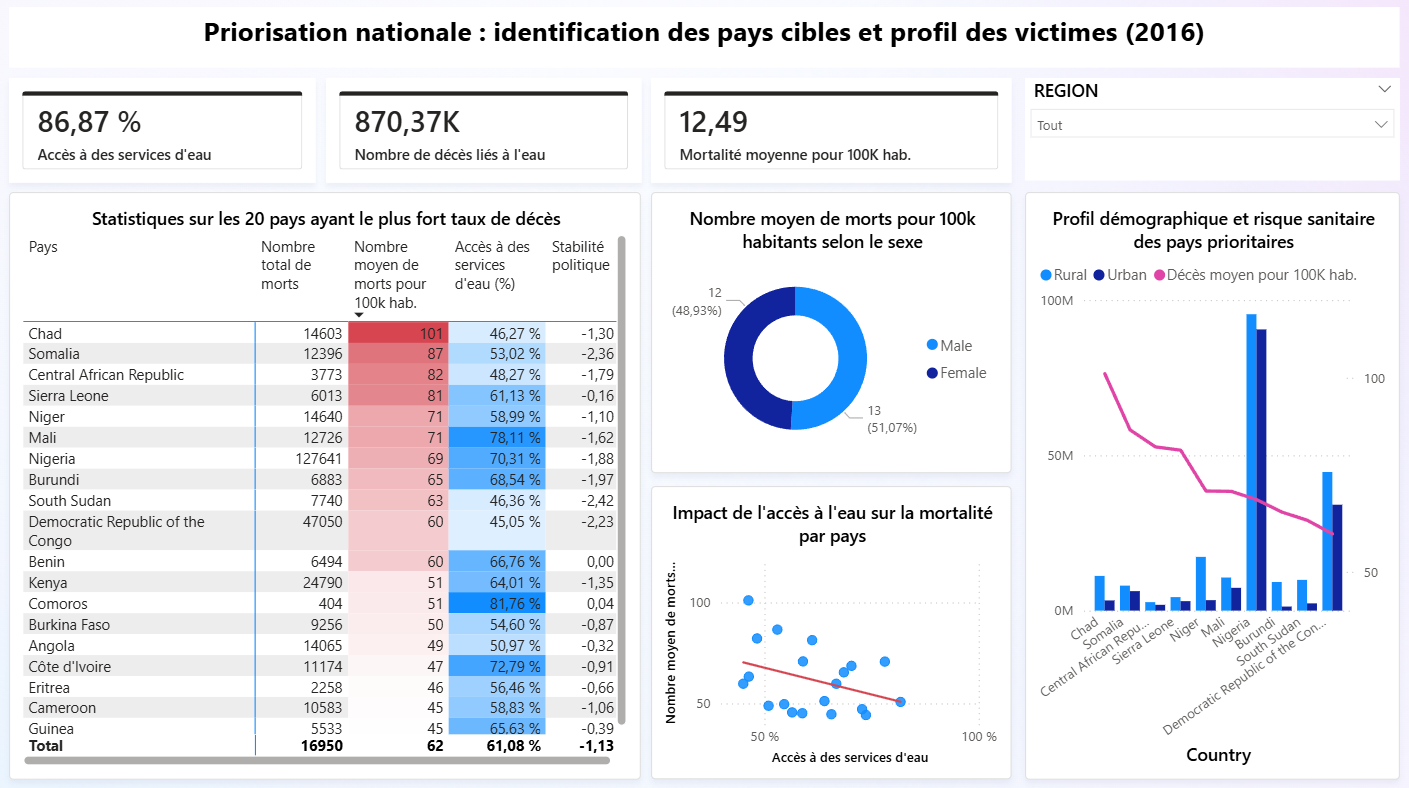

The page's visual inventory and layout, read from the dashboard file:
{"tool":"powerbi","page":{"name":"Vue Nationale","canvas":[1280,720],"ordinal":2},"visuals":[{"type":"textbox","box":[9.5,8.3,1261,54.7],"z":0},{"type":"pivotTable","title":"Statistiques sur les 20 pays ayant le plus fort taux de décès","fields":{"Rows":["DIM_Geography.COUNTRY"],"Values":["Avg(MortalityRateAttributedToWater.WASH deaths)","Avg(MortalityRateAttributedToWater.Mortality rate attributed to exposure to unsafe WASH services)","Avg(BasicAndSafelyManagedDrinkingWaterServices.Population using at least basic drinking-water services (%))","Avg(PoliticalStability.Political_Stability)"]},"box":[9.5,176.1,573.4,532.9],"z":1},{"type":"donutChart","title":"Nombre moyen de morts pour 100k habitants selon le sexe","fields":{"Category":["DIM_Granularity.Granularity"],"Y":["Avg(MortalityRateAttributedToWater.Mortality rate attributed to exposure to unsafe WASH services)"]},"box":[591.2,176.1,327.1,254.6],"z":2},{"type":"scatterChart","title":"Impact de l''accès à l''eau sur la mortalité par pays","fields":{"X":["Avg(BasicAndSafelyManagedDrinkingWaterServices.Population using at least basic drinking-water services (%))"],"Y":["Avg(MortalityRateAttributedToWater.Mortality rate attributed to exposure to unsafe WASH services)"],"Category":["DIM_Geography.COUNTRY"]},"box":[591.2,442.5,327.1,266.5],"z":3},{"type":"lineClusteredColumnComboChart","title":"Profil démographique et risque sanitaire des pays prioritaires","fields":{"Category":["DIM_Geography.COUNTRY"],"Y":["Sum(Population.Population)"],"Series":["Population.Granularity"],"Y2":["Avg(MortalityRateAttributedToWater.Mortality rate attributed to exposure to unsafe WASH services)"]},"box":[930.3,176.1,340.2,532.9],"z":4},{"type":"slicer","fields":{"Values":["DIM_Geography.REGION"]},"box":[930.3,72.6,340.2,92.8],"z":5},{"type":"cardVisual","fields":{"Data":["Sum(MortalityRateAttributedToWater.WASH deaths)"]},"box":[296.2,72.6,286.7,95.2],"z":6},{"type":"cardVisual","fields":{"Data":["Avg(MortalityRateAttributedToWater.Mortality rate attributed to exposure to unsafe WASH services)"]},"box":[591.2,72.6,327.1,95.2],"z":7},{"type":"cardVisual","fields":{"Data":["Avg(BasicAndSafelyManagedDrinkingWaterServices.Population using at least basic drinking-water services (%))"]},"box":[9.5,72.6,278.4,95.2],"z":8}]}

Visuals, with their boxes in screenshot pixels (x1, y1, x2, y2), scaled from the page's 1280x720 canvas onto the 1409x788 screenshot:
textbox: (10, 9, 1399, 69)
"Statistiques sur les 20 pays ayant le plus fort taux de décès" pivotTable: (10, 193, 642, 776)
"Nombre moyen de morts pour 100k habitants selon le sexe" donutChart: (651, 193, 1011, 471)
"Impact de l''accès à l''eau sur la mortalité par pays" scatterChart: (651, 484, 1011, 776)
"Profil démographique et risque sanitaire des pays prioritaires" lineClusteredColumnComboChart: (1024, 193, 1399, 776)
slicer - DIM_Geography.REGION: (1024, 79, 1399, 181)
cardVisual - Sum(MortalityRateAttributedToWater.WASH deaths): (326, 79, 642, 184)
cardVisual - Avg(MortalityRateAttributedToWater.Mortality rate attributed to exposure to unsafe WASH services): (651, 79, 1011, 184)
cardVisual - Avg(BasicAndSafelyManagedDrinkingWaterServices.Population using at least basic drinking-water services (%)): (10, 79, 317, 184)
